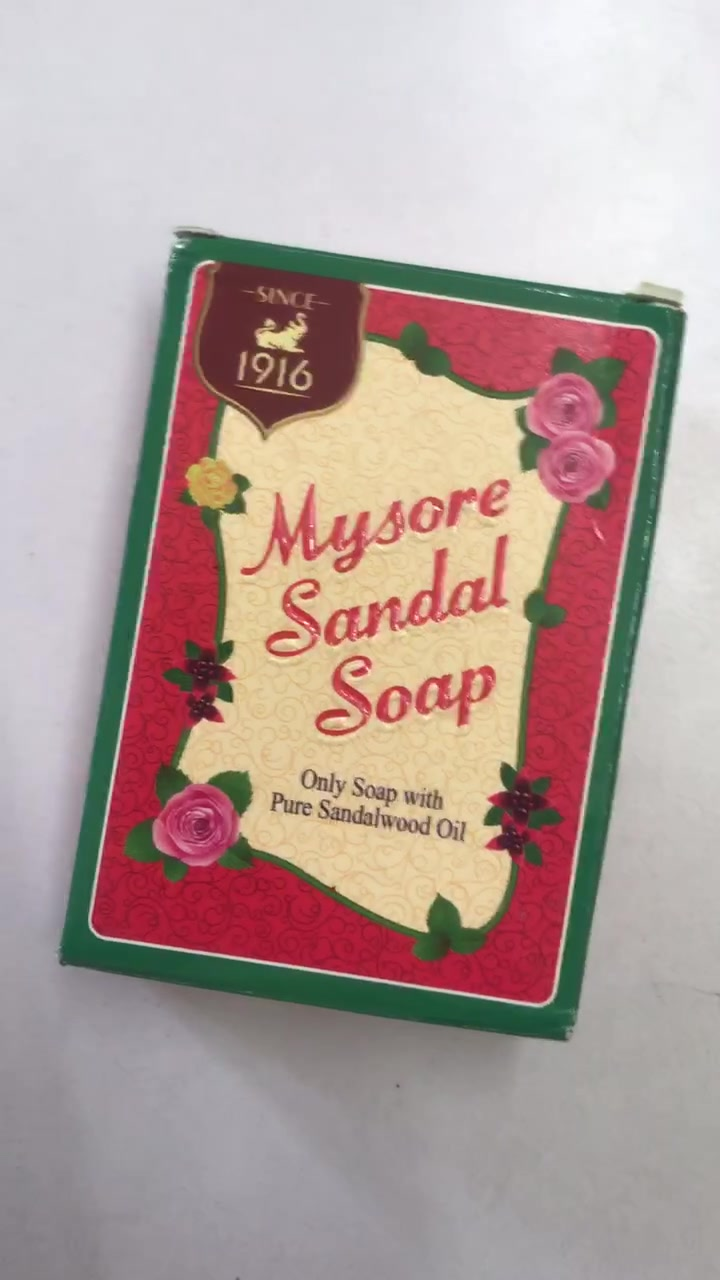mysore sandal soap: (58, 237, 674, 1045)
